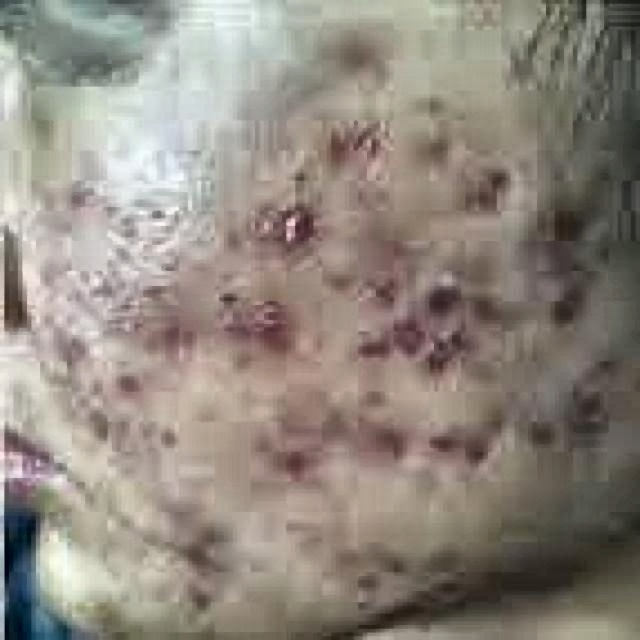papule: (322, 109, 403, 162), (250, 433, 326, 486), (327, 41, 394, 90), (466, 162, 524, 218), (215, 298, 277, 350), (407, 414, 461, 463), (161, 576, 219, 621), (448, 426, 501, 474), (542, 369, 608, 407), (367, 414, 416, 463), (532, 279, 590, 320), (170, 527, 224, 569), (54, 343, 107, 384), (152, 486, 202, 527), (514, 399, 560, 441), (420, 320, 466, 361), (340, 320, 385, 361), (376, 542, 425, 576), (537, 200, 582, 237), (425, 275, 470, 312), (260, 200, 304, 237), (376, 308, 421, 342), (336, 561, 380, 595), (474, 275, 506, 320), (80, 403, 112, 448), (421, 128, 456, 169), (573, 414, 609, 452), (148, 320, 188, 354), (550, 237, 600, 264), (358, 264, 394, 298), (54, 181, 94, 211), (326, 252, 354, 282)
